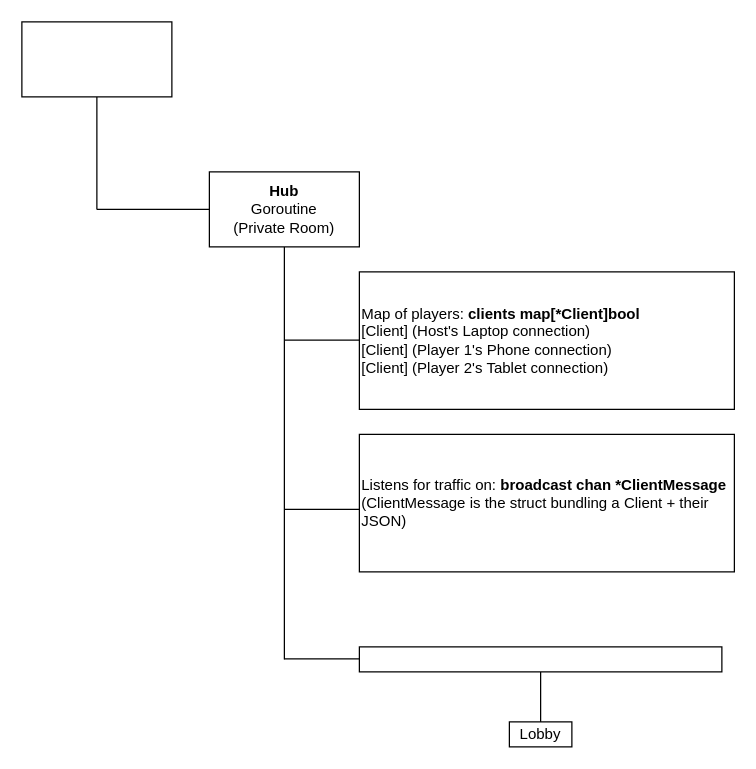
Image size: 756x769. Some labels were removed from this diagram. The shapes that lost their labels are listed below. From the top down, each one's centre as x and y in pixels, then its label:
At (x=96, y=59): "RoomManager".
At (x=540, y=659): "Holds the rules in: CurrentState Game (Interface)".
